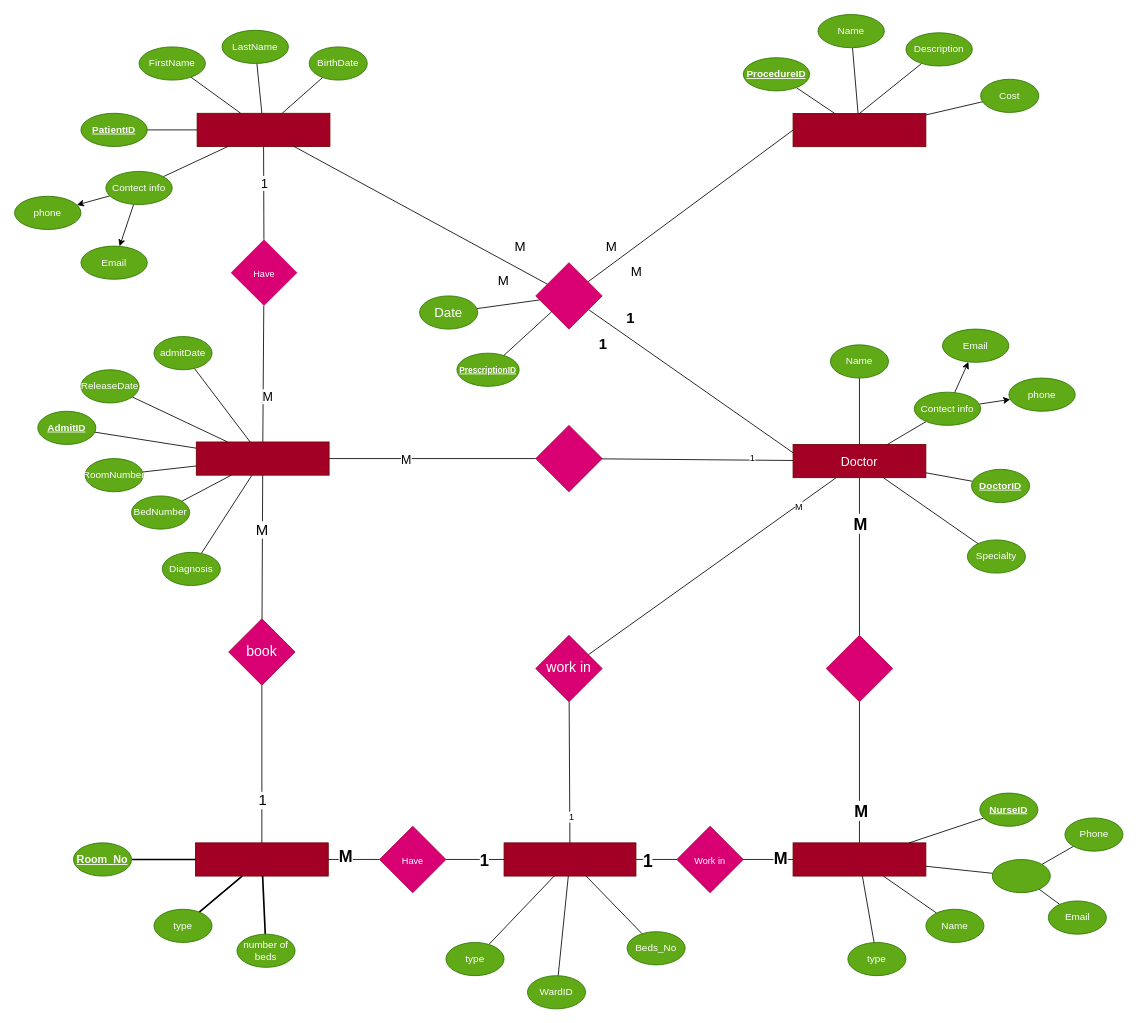
Image size: 1138x1023. Some labels were removed from this diagram. Each missing label, with the centre of its shape:
Addmission: the point at 262,458
assist: the point at 859,668
Contact info: the point at 1020,876
Manage: the point at 568,458
Nurse: the point at 859,859
Patient: the point at 263,129
prescription: the point at 568,295
Procedure: the point at 859,130
Room: the point at 261,859
Wards: the point at 569,859
